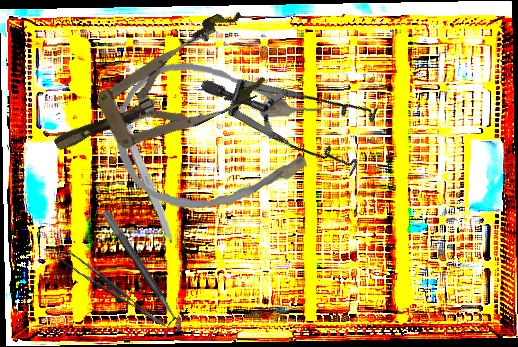Cannula: (113, 58, 326, 217)
Fixation Ring: (91, 209, 185, 338)
Scalpel Handle: (107, 92, 179, 245)
Speculum: (35, 4, 276, 186), (198, 6, 400, 215)
Tissue Forceps: (58, 240, 166, 343)
